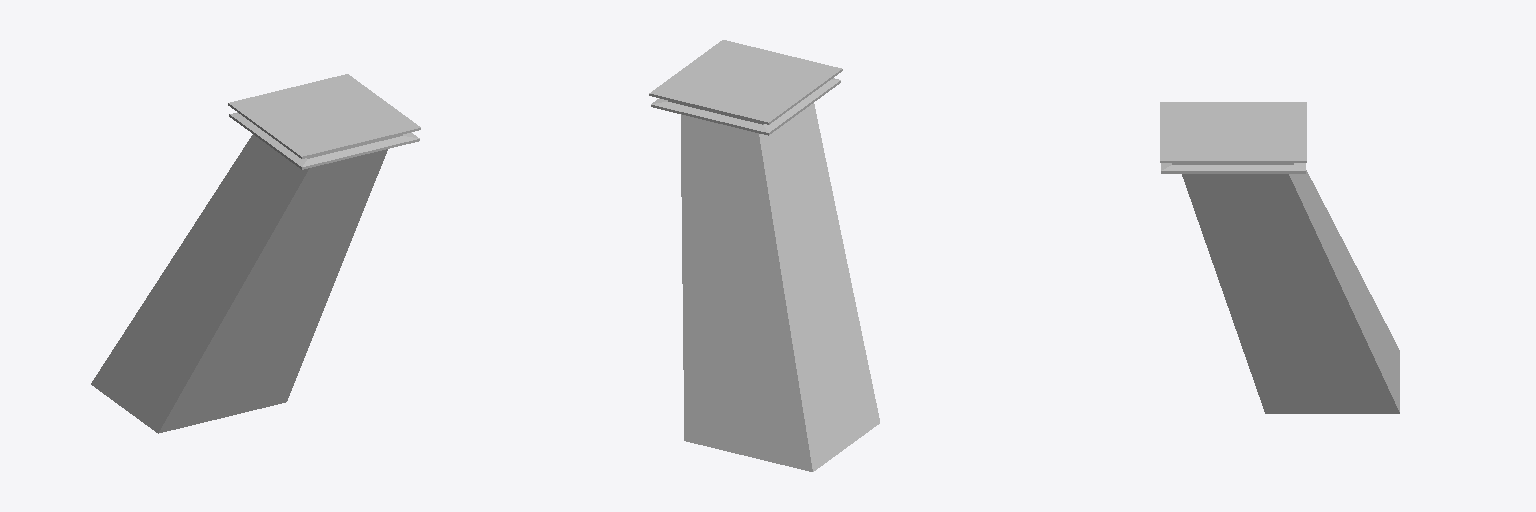
File: TheKeepUpperColumnR.obj
The picture shows the model from 3 angles: view 1: azimuth 30°, elevation 25°; view 2: azimuth 150°, elevation 25°; view 3: azimuth 270°, elevation 25°; orthographic projection.
Parts seen in each view (by area): view 1: Cube.006_Cube.012; view 2: Cube.006_Cube.012; view 3: Cube.006_Cube.012.
Boxes of the visible parts, box(x1,y1,x2,y2) form: Cube.006_Cube.012: box(91, 74, 420, 433); Cube.006_Cube.012: box(649, 40, 879, 471); Cube.006_Cube.012: box(1160, 102, 1399, 413).
Bounding box in the file's own units: 78.35 × 104 × 77.63.